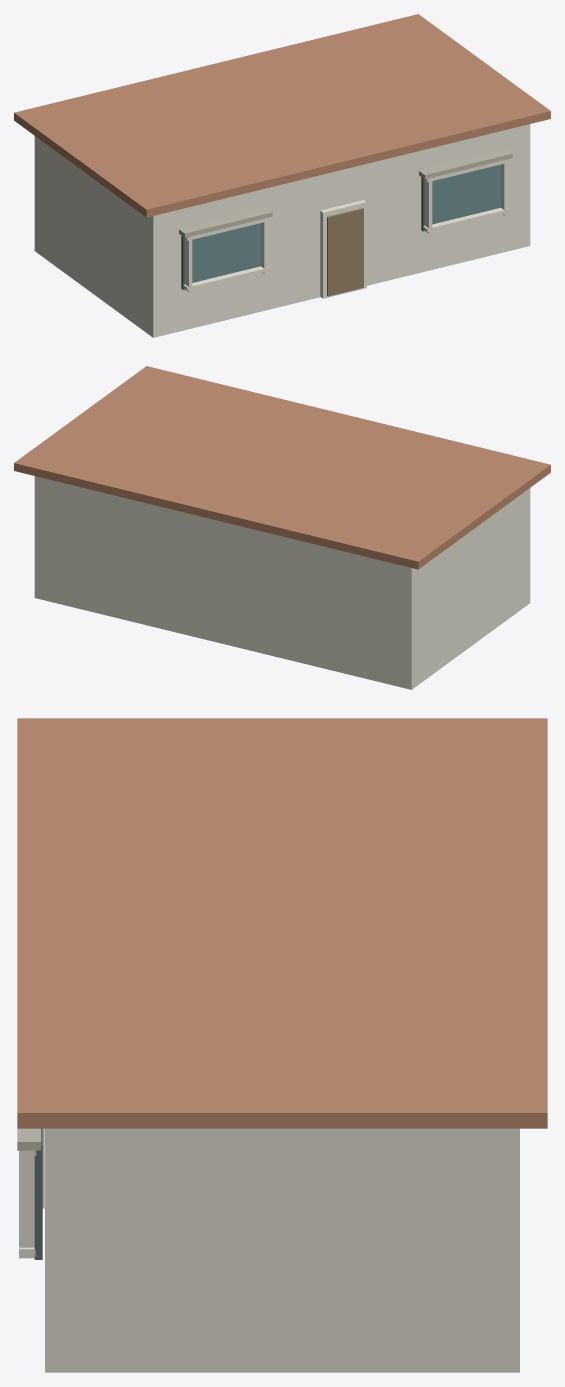
3 renders of one model, top to bottom at view 1: azimuth 30°, elevation 25°; view 2: azimuth 150°, elevation 25°; view 3: azimuth 270°, elevation 25°, orthographic. The views are drawn at different scales.
Bounding box in the file's own units: 11.8 × 3.81 × 6.7.
